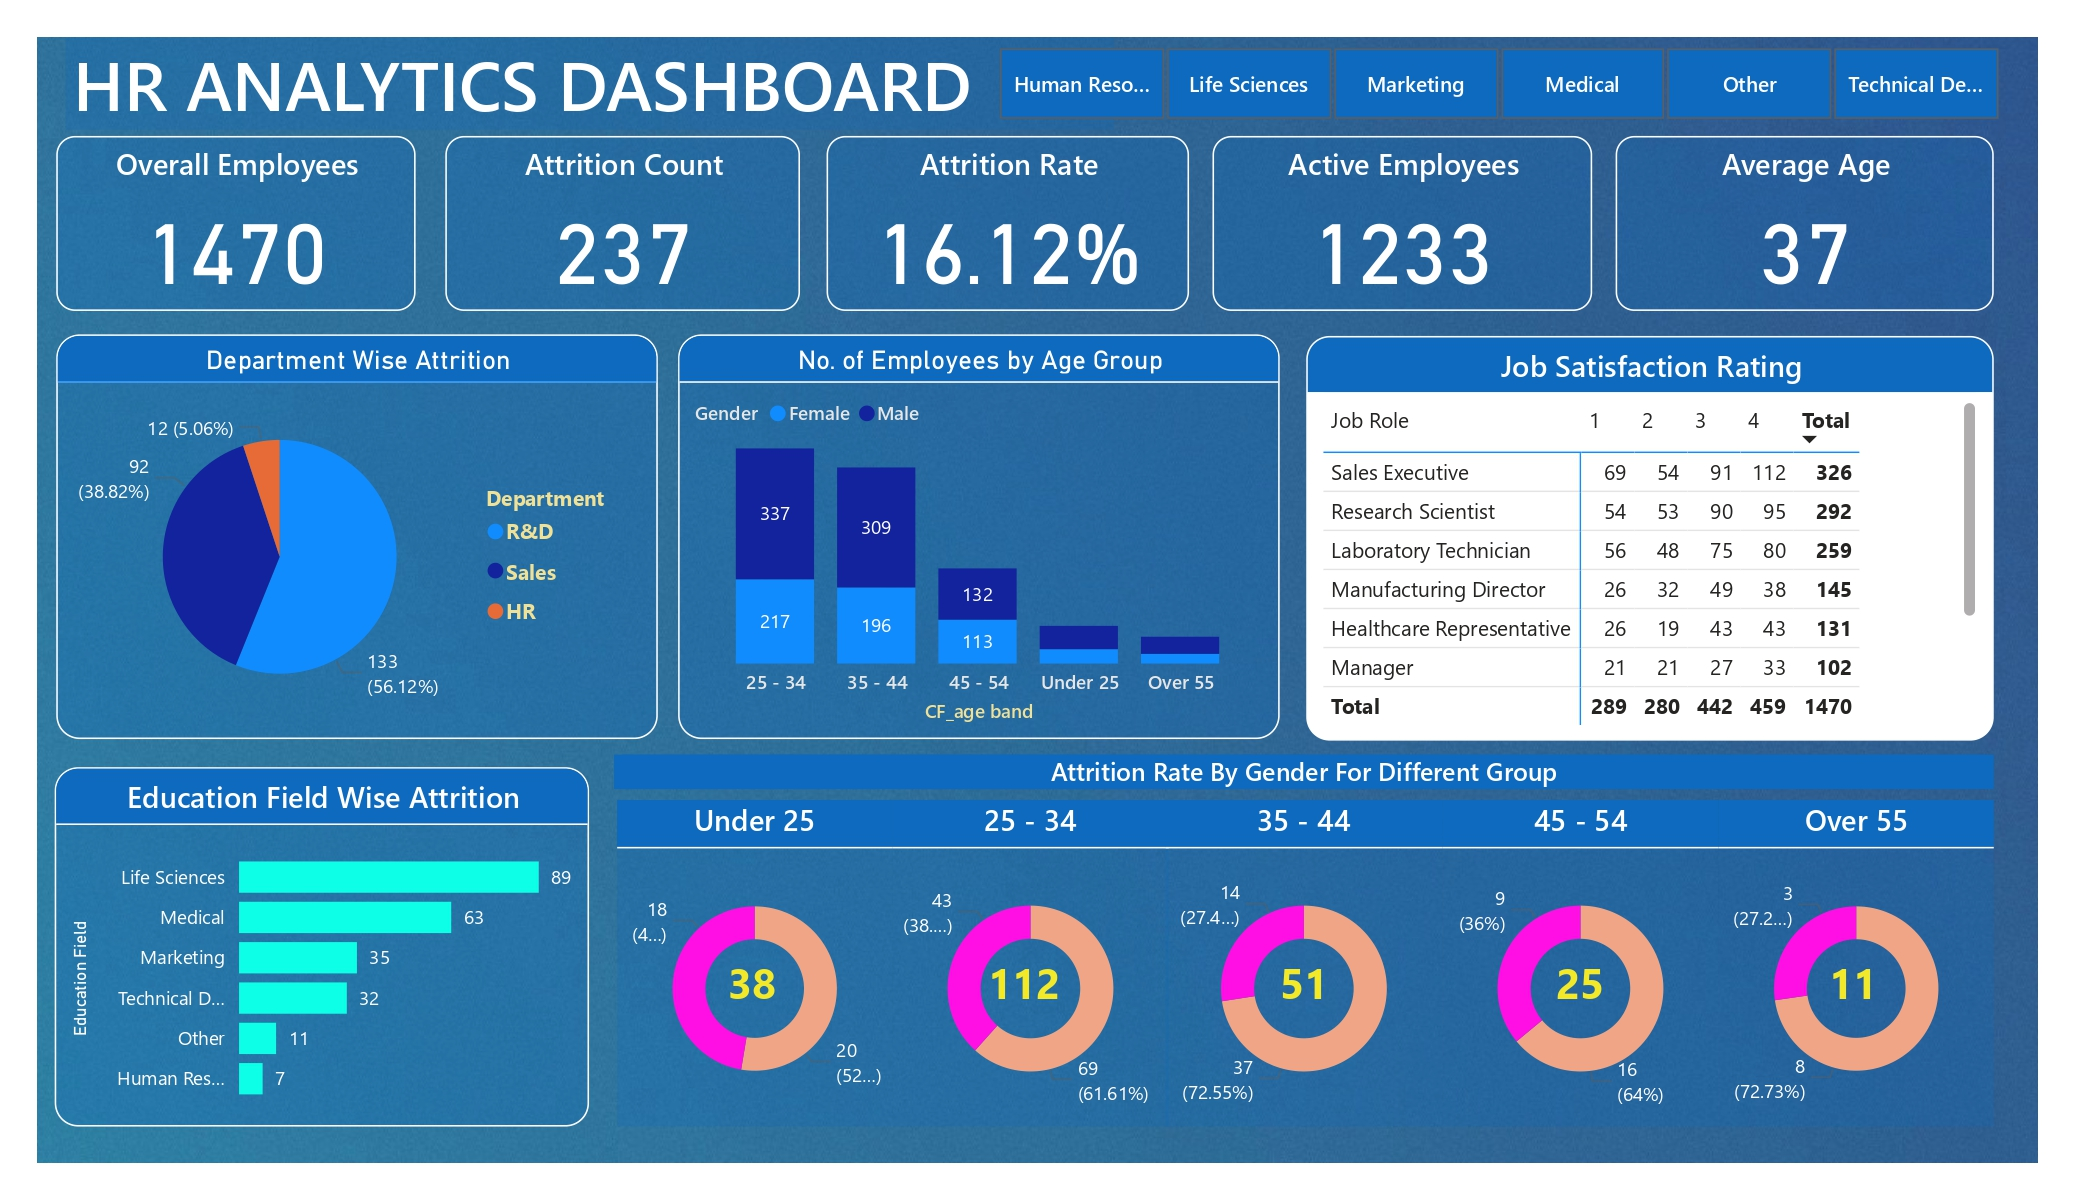

The dashboard page shown, as its layout file describes it:
{"tool":"powerbi","page":{"name":"Page 1","canvas":[1280,720],"ordinal":0},"visuals":[{"type":"card","title":"Overall Employees","fields":{"Values":["Sum(HR data.Employee Count)"]},"box":[11.9,63.4,230.5,111.8],"z":0},{"type":"card","title":"Attrition Count","fields":{"Values":["Sum(HR data.Attrition Count)"]},"box":[261,63.4,227.1,111.8],"z":1000},{"type":"card","title":"Attrition Rate","fields":{"Values":["HR data.Attrition Rate"]},"box":[505,63.4,232.2,111.8],"z":2000},{"type":"card","title":"Active Employees","fields":{"Values":["HR data.Active Emp"]},"box":[752.4,63.4,242.3,111.8],"z":3000},{"type":"card","title":"Average Age","fields":{"Values":["Avg(HR data.Age)"]},"box":[1010,63.4,242.3,111.8],"z":4000},{"type":"pieChart","title":"Department Wise Attrition","fields":{"Category":["HR data.Department"],"Y":["Sum(HR data.Attrition Count)"]},"box":[11.9,189.8,384.7,259.3],"z":5000},{"type":"columnChart","title":"No. of Employees by Age Group","fields":{"Category":["HR data.CF_age band"],"Y":["Sum(HR data.Employee Count)"],"Series":["HR data.Gender"]},"box":[410.1,189.8,384.7,259.3],"z":6000},{"type":"pivotTable","title":"Job Satisfaction Rating","fields":{"Rows":["HR data.Job Role"],"Columns":["HR data.Job Satisfaction"],"Values":["Sum(HR data.Employee Count)"]},"box":[812.3,191,439.9,258.5],"z":7000},{"type":"barChart","title":"Education Field Wise Attrition","fields":{"Category":["HR data.Education Field"],"Y":["Sum(HR data.Attrition Count)"]},"box":[11.2,467.2,341.9,229.6],"z":8000},{"type":"donutChart","title":"Under 25","fields":{"Category":["HR data.Gender"],"Y":["Sum(HR data.Attrition Count)"],"Series":["HR data.CF_age band"]},"box":[370.8,488,176.6,208.7],"z":9000},{"type":"textbox","title":"Attrition Rate By Gender For Different Group","box":[369.2,459.1,882.9,22],"z":10000},{"type":"donutChart","title":"25 - 34","fields":{"Category":["HR data.Gender"],"Y":["Sum(HR data.Attrition Count)"],"Series":["HR data.CF_age band"]},"box":[547.4,488,176.6,208.7],"z":11000},{"type":"donutChart","title":"35 - 44","fields":{"Category":["HR data.Gender"],"Y":["Sum(HR data.Attrition Count)"],"Series":["HR data.CF_age band"]},"box":[722.4,488,176.6,208.7],"z":12000},{"type":"donutChart","title":"45 - 54","fields":{"Category":["HR data.Gender"],"Y":["Sum(HR data.Attrition Count)"],"Series":["HR data.CF_age band"]},"box":[899,488,176.6,208.7],"z":13000},{"type":"donutChart","title":"Over 55","fields":{"Category":["HR data.Gender"],"Y":["Sum(HR data.Attrition Count)"],"Series":["HR data.CF_age band"]},"box":[1075.6,488,176.6,208.7],"z":14000},{"type":"card","fields":{"Values":["Sum(HR data.Attrition Count)"]},"box":[398.6,563.4,115.9,85.4],"z":15000},{"type":"card","fields":{"Values":["Sum(HR data.Attrition Count)"]},"box":[573.6,563.4,115.9,85.4],"z":16000},{"type":"card","fields":{"Values":["Sum(HR data.Attrition Count)"]},"box":[752.5,563.4,115.9,85.4],"z":17000},{"type":"card","fields":{"Values":["Sum(HR data.Attrition Count)"]},"box":[929.5,563.4,115.9,85.4],"z":18000},{"type":"card","fields":{"Values":["Sum(HR data.Attrition Count)"]},"box":[1104.4,563.4,115.9,85.4],"z":19000},{"type":"textbox","title":"HR ANALYTICS DASHBOARD","box":[18.3,0,671.2,59],"z":20000},{"type":"slicer","fields":{"Values":["HR data.Education Field"]},"box":[589.8,0,689.5,59],"z":21000}]}

Visuals, with their boxes on the page's 1280x720 design canvas (x1, y1, x2, y2). These are canvas units, not pixel positions in the 2075x1200 screenshot, which may show the page scaled, cropped or inside an application window:
"Overall Employees" card: 12/63/242/175
"Attrition Count" card: 261/63/488/175
"Attrition Rate" card: 505/63/737/175
"Active Employees" card: 752/63/995/175
"Average Age" card: 1010/63/1252/175
"Department Wise Attrition" pieChart: 12/190/397/449
"No. of Employees by Age Group" columnChart: 410/190/795/449
"Job Satisfaction Rating" pivotTable: 812/191/1252/450
"Education Field Wise Attrition" barChart: 11/467/353/697
"Under 25" donutChart: 371/488/547/697
"Attrition Rate By Gender For Different Group" textbox: 369/459/1252/481
"25 - 34" donutChart: 547/488/724/697
"35 - 44" donutChart: 722/488/899/697
"45 - 54" donutChart: 899/488/1076/697
"Over 55" donutChart: 1076/488/1252/697
card - Sum(HR data.Attrition Count): 399/563/514/649
card - Sum(HR data.Attrition Count): 574/563/690/649
card - Sum(HR data.Attrition Count): 752/563/868/649
card - Sum(HR data.Attrition Count): 930/563/1045/649
card - Sum(HR data.Attrition Count): 1104/563/1220/649
"HR ANALYTICS DASHBOARD" textbox: 18/0/690/59
slicer - HR data.Education Field: 590/0/1279/59
